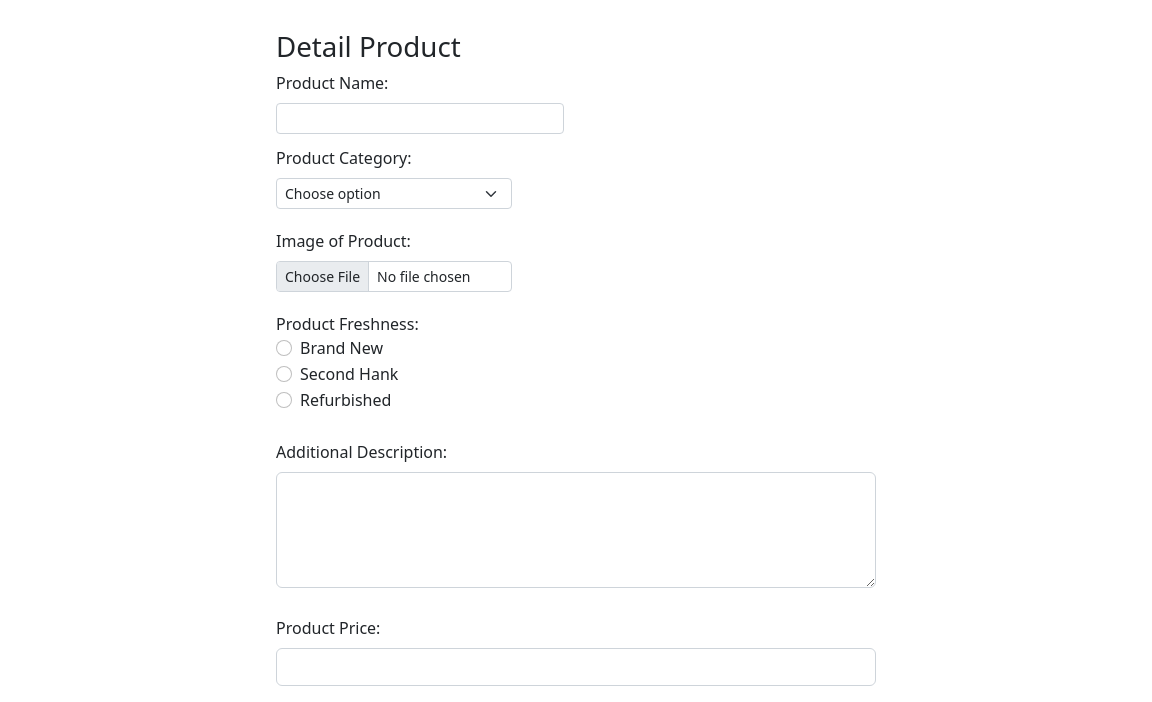
it: Test Prioritas 2 › should show error message when Product Name contains invalid characters
Type "~!@#$%^&*" into the field labelled "Product Name:" at [420, 119], box 276,103 -> 564,134
(page scrolled)
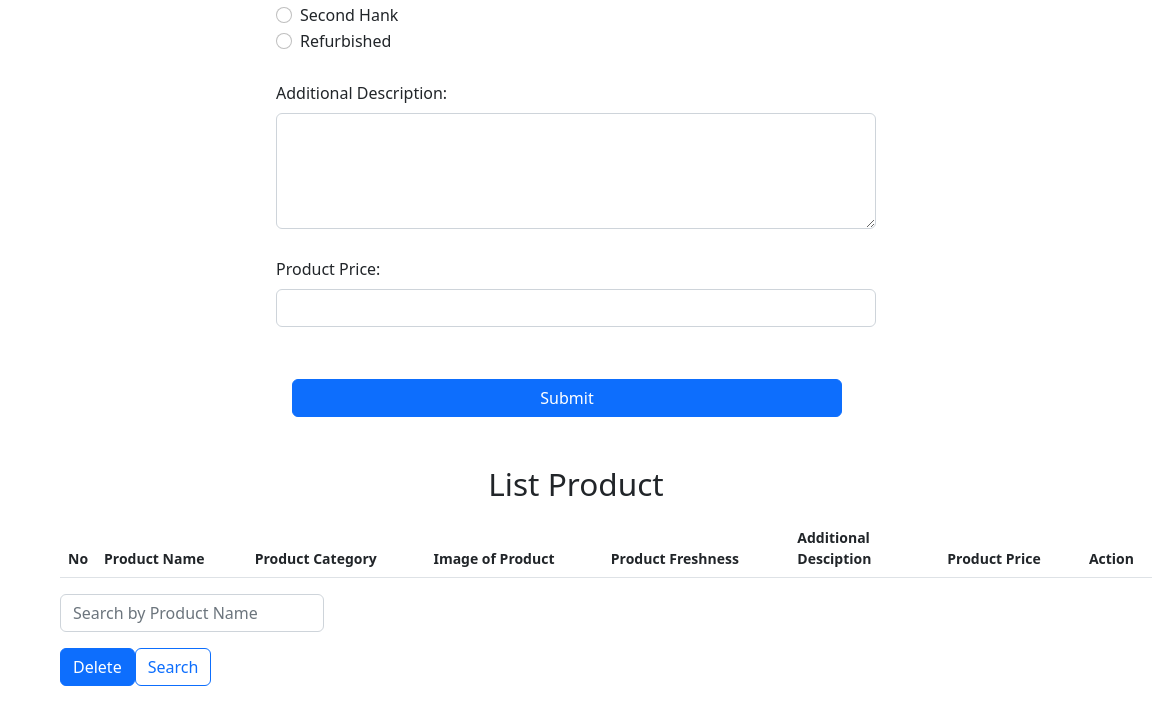
Click the button "Submit" at [567, 398], box 292,379 -> 842,417
(page scrolled)
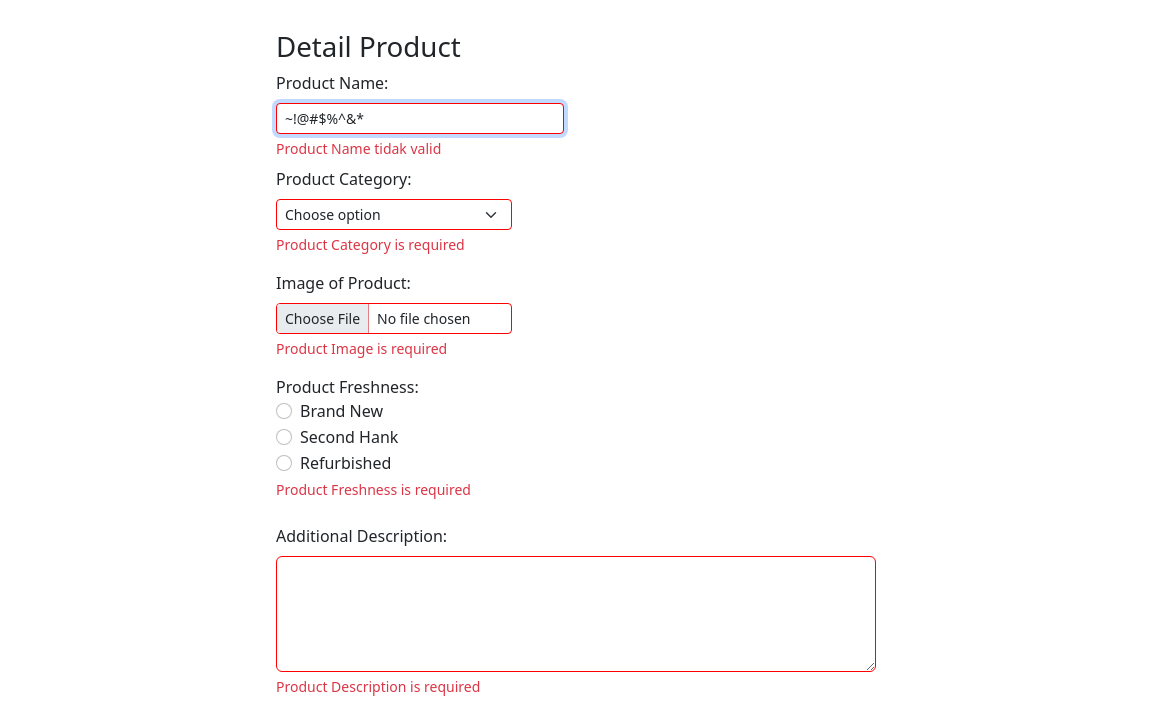
Now the text "Product Name tidak valid" is shown, box 276,139 -> 441,158
